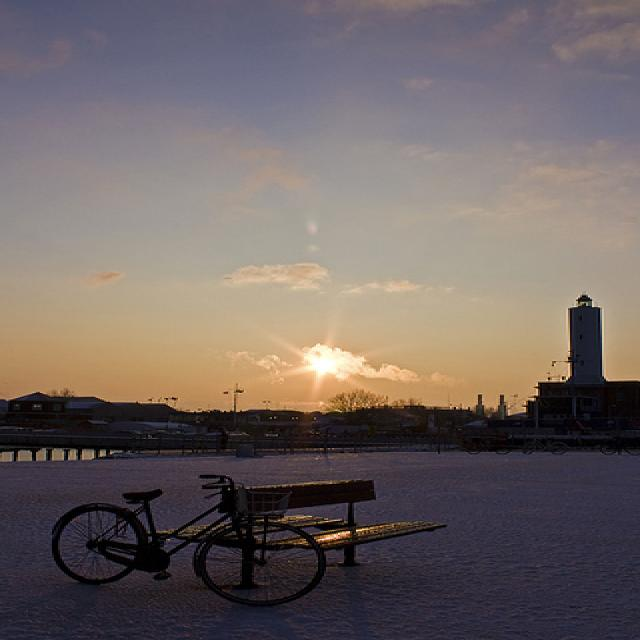Vehicle: (106, 422, 180, 434)
